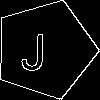J: (20, 24, 47, 71)
